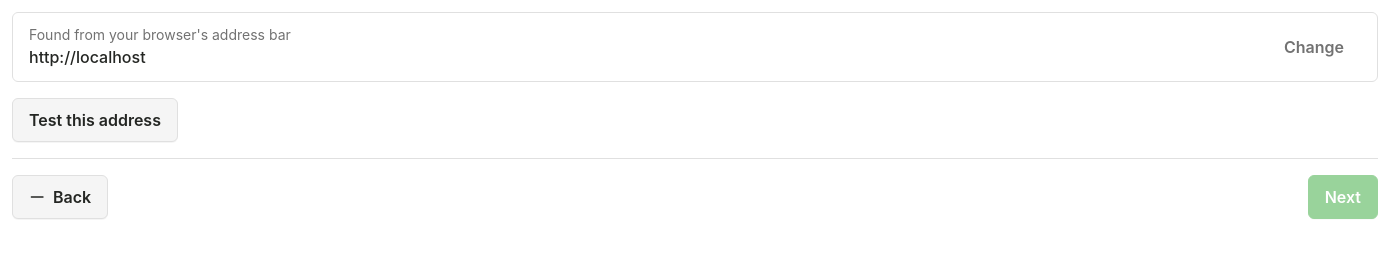
Scenario: Setup › PublicUrl › shows the address the browser opened the studio from, read-only, and opens the field on Change
Expected: the text "Found from your browser's address bar" is shown, [29,25,291,45]
Expected: the text "http://localhost" is shown, [29,47,146,67]
What coordinates should you click on to do the following:
click the button "Change"
I would click on:
 (1314, 47)
Its box is [1267,25,1361,69].
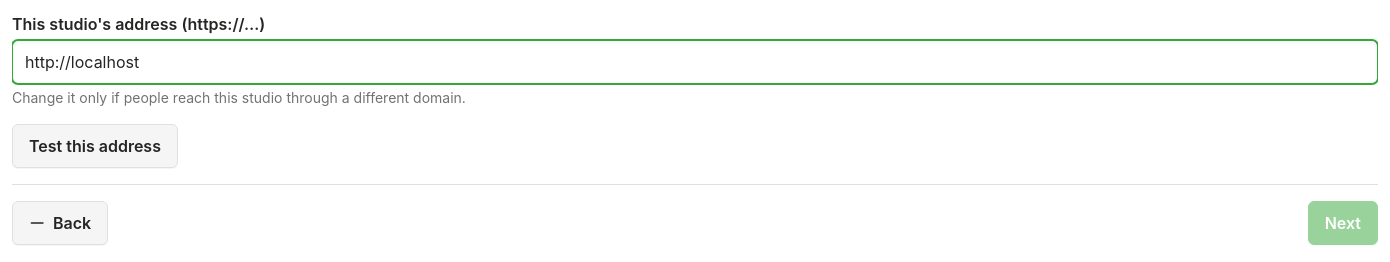
Expected: the field labelled "This studio's address (https://…)" holds "http://localhost", [12,40,1378,84]
Expected: the text "Change it only if people reach this studio through a different domain." is shown, [12,89,466,106]
